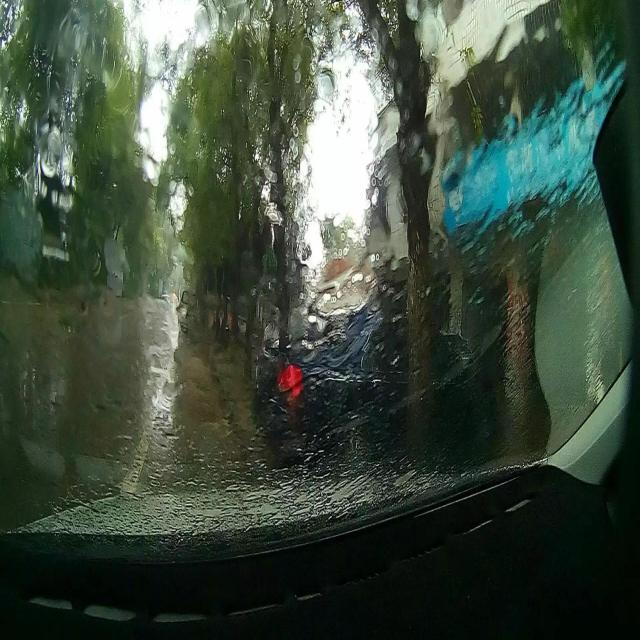car: (256, 305, 498, 462), (178, 289, 201, 331)
